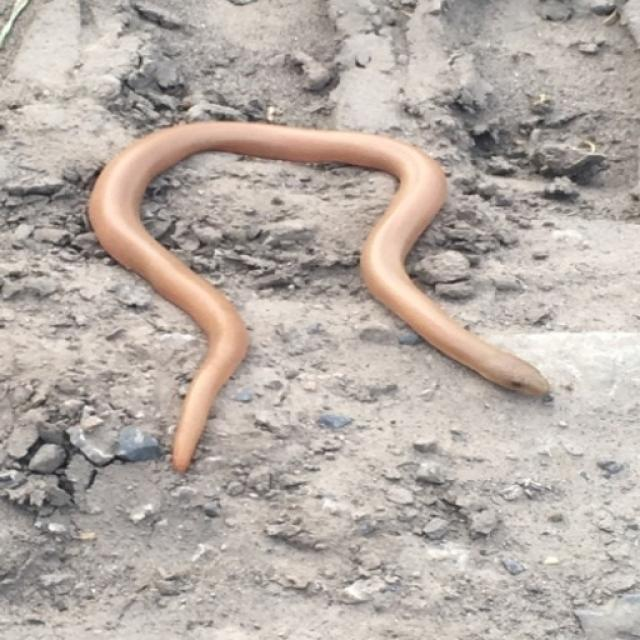snake: (65, 107, 582, 481)
